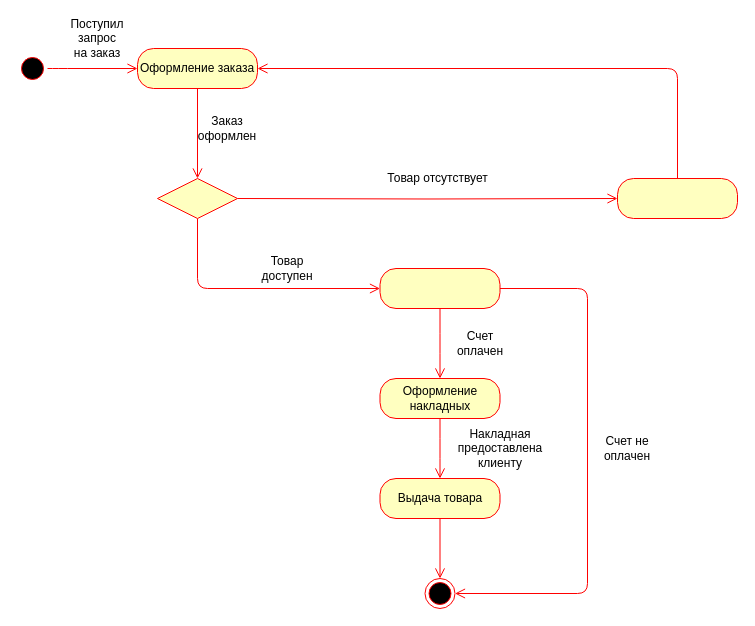
The diagram is 755 pixels wide and 626 high, and some of its shapes have lost their labels. Each missing label, with the centre of its shape:
Ожидание наличия товара: point (677, 198)
Оформление счета: point (439, 288)
